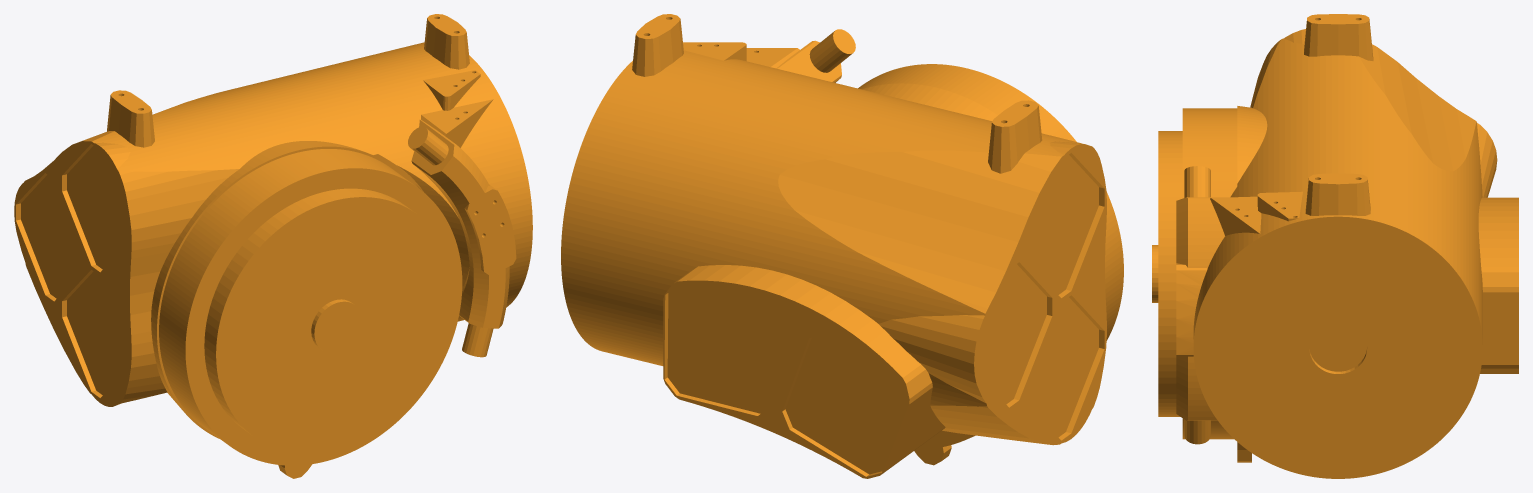
The model's file is KukaTitanLink3.dae.
3 renders of one model, left to right at view 1: azimuth 30°, elevation 25°; view 2: azimuth 150°, elevation 25°; view 3: azimuth 270°, elevation 25°, orthographic. The views are drawn at different scales.
Visible parts, largest first — view 1: KUKATitanLink3; view 2: KUKATitanLink3; view 3: KUKATitanLink3.
Part boxes in pixels (x1,y1,x2,y2): KUKATitanLink3: (14,14,532,478); KUKATitanLink3: (561,14,1123,478); KUKATitanLink3: (1152,14,1518,478).
Bounding box in the file's own units: 0.766 × 0.6315 × 0.726.
